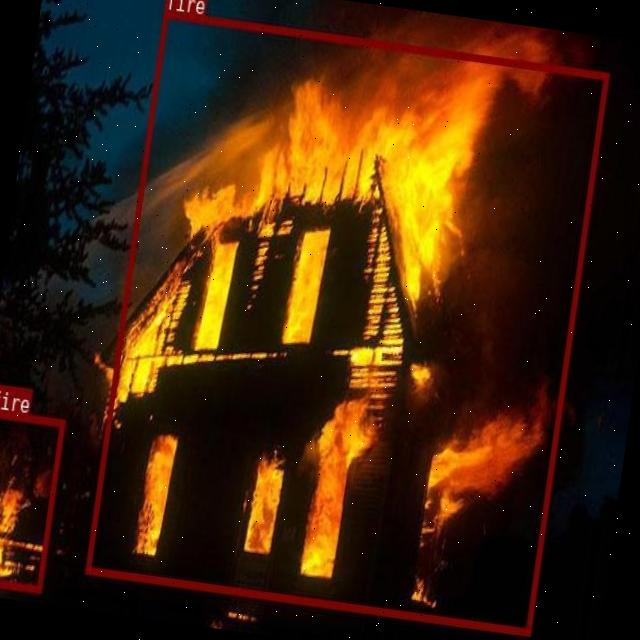fire: (84, 9, 608, 635), (0, 408, 64, 591)
